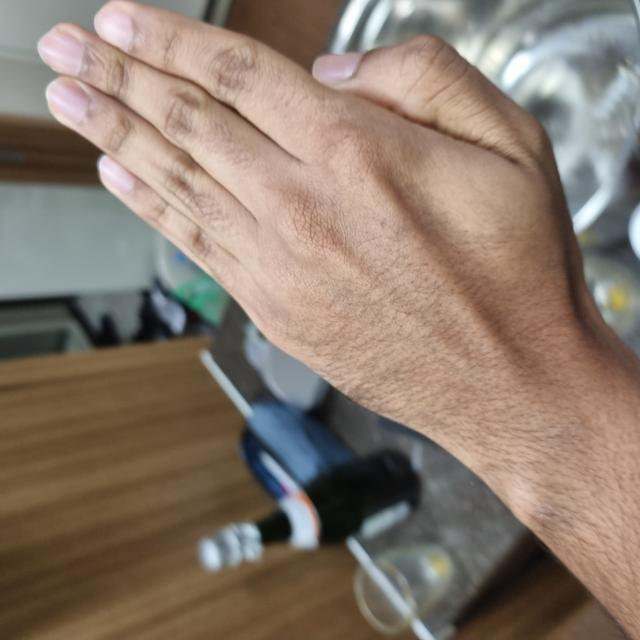Paper: (209, 45, 636, 582)
